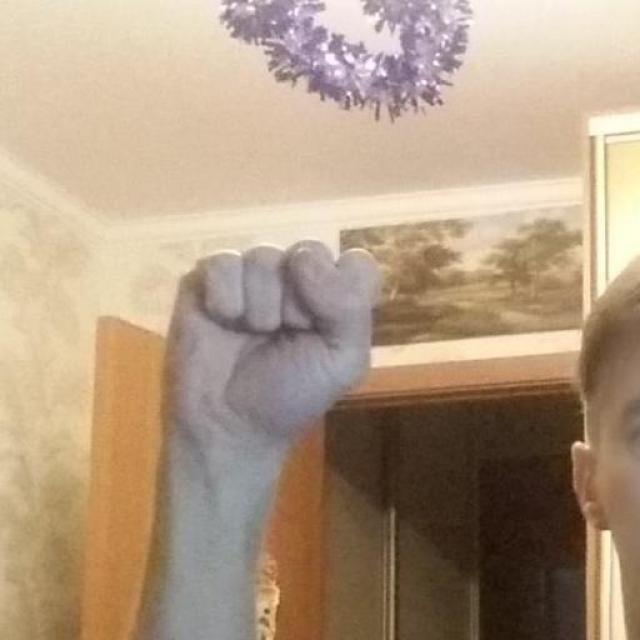hand: (125, 237, 384, 638)
